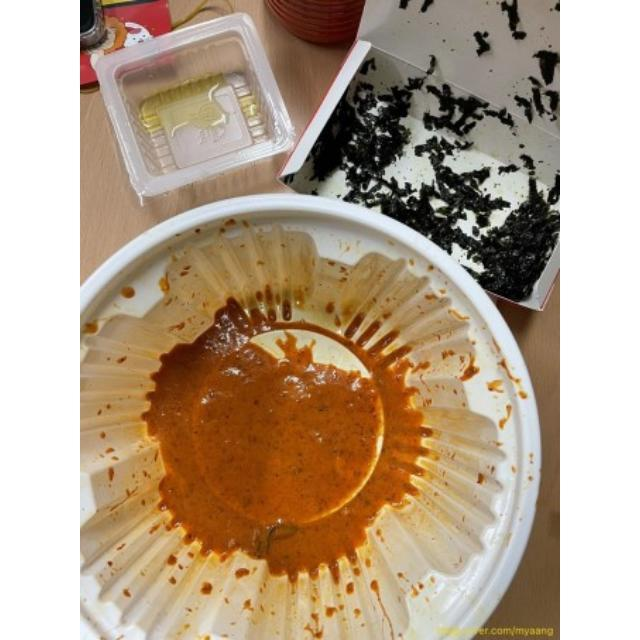Recipiente plastico: (65, 183, 543, 640), (85, 0, 308, 213)
